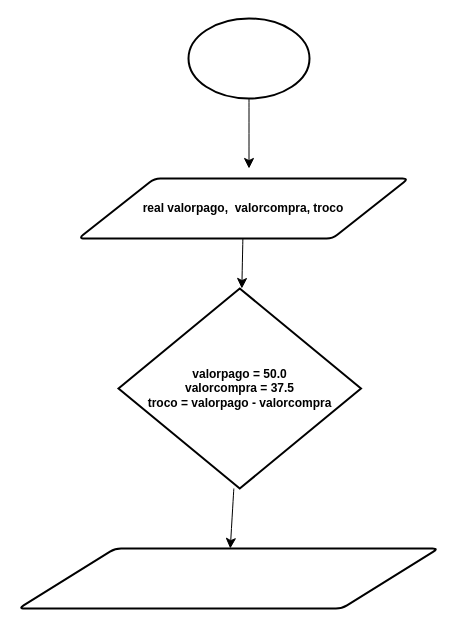
Image size: 456x626. Some labels were removed from this diagram. The box of each missing label's shape, as (x1, y1, x2, y2) in pixels:
escreva("troco: R$", troco, "\n"): (17, 547, 439, 609)
inicio: (187, 17, 310, 99)
